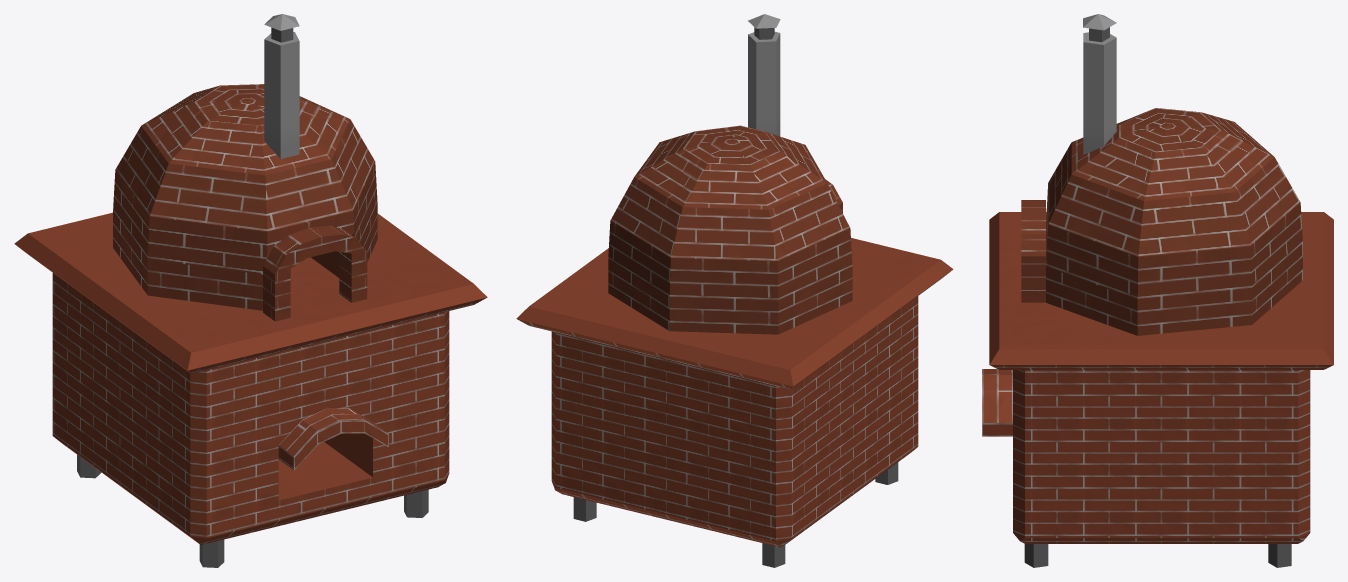
File: Oven.fbx
3 renders of one model, left to right at view 1: azimuth 30°, elevation 25°; view 2: azimuth 150°, elevation 25°; view 3: azimuth 270°, elevation 25°, orthographic. The views are drawn at different scales.
Visible parts, largest first — view 1: Cube.003, Sphere.002, Plane.003, Cylinder.005, Cylinder.007, Cylinder.004; view 2: Cube.003, Sphere.002, Cylinder.005; view 3: Cube.003, Sphere.002, Cylinder.005, Plane.003, Cylinder.004, Cylinder.008.
Part boxes in pixels (x1,y1,x2,y2): Cube.003: (14, 212, 487, 544); Sphere.002: (113, 84, 377, 310); Plane.003: (263, 225, 367, 321); Cylinder.005: (264, 14, 299, 158); Cylinder.007: (199, 539, 224, 567); Cylinder.004: (404, 489, 428, 517); Cube.003: (516, 238, 953, 547); Sphere.002: (608, 125, 852, 334); Cylinder.005: (748, 14, 780, 136); Cube.003: (982, 212, 1333, 543); Sphere.002: (1046, 108, 1302, 335); Cylinder.005: (1083, 14, 1116, 154); Plane.003: (1021, 200, 1045, 302); Cylinder.004: (1024, 544, 1048, 567); Cylinder.008: (1268, 544, 1291, 567).
Bounding box in the file's own units: 302 × 482 × 308.
8 materials, 8 textured.
